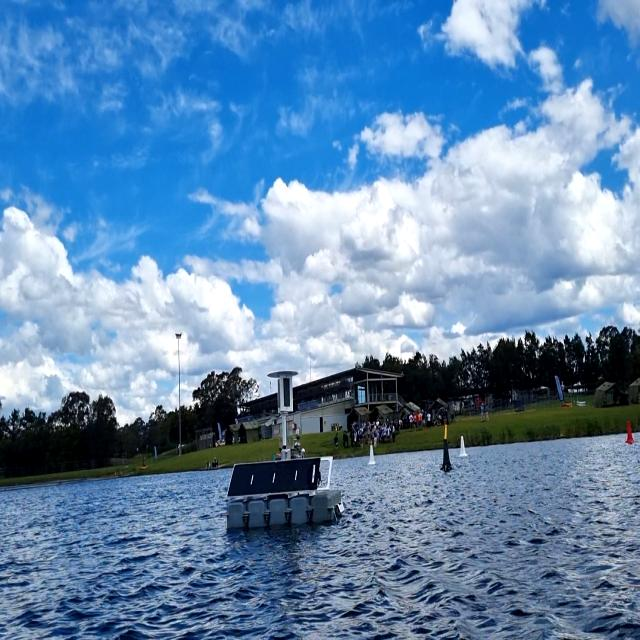led: (281, 375, 292, 410)
